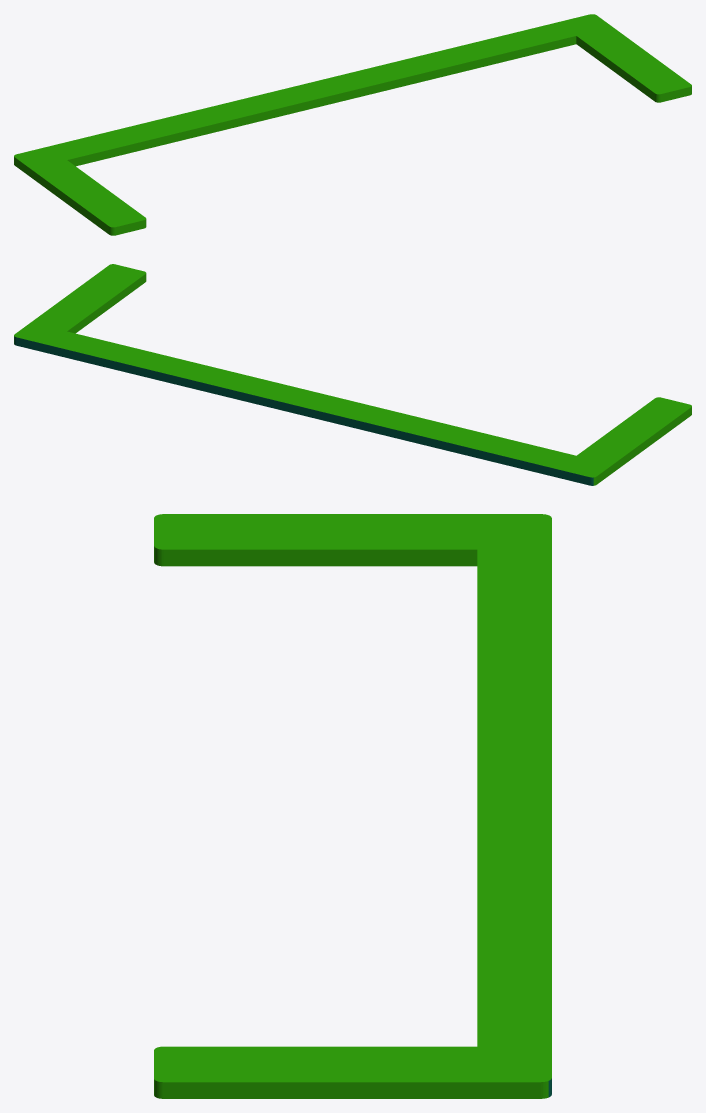
File: Parking slot.fbx
The picture shows the model from 3 angles, top to bottom: view 1: azimuth 30°, elevation 25°; view 2: azimuth 150°, elevation 25°; view 3: azimuth 270°, elevation 25°; orthographic projection. The views are drawn at different scales.
Visible parts, largest first — view 1: Parking slot; view 2: Parking slot; view 3: Parking slot.
Boxes of the visible parts, x1=… form: Parking slot: x1=14, y1=14, x2=691, y2=235; Parking slot: x1=14, y1=264, x2=691, y2=485; Parking slot: x1=154, y1=514, x2=551, y2=1098.
Bounding box in the file's own units: 2002 × 27.45 × 593.
